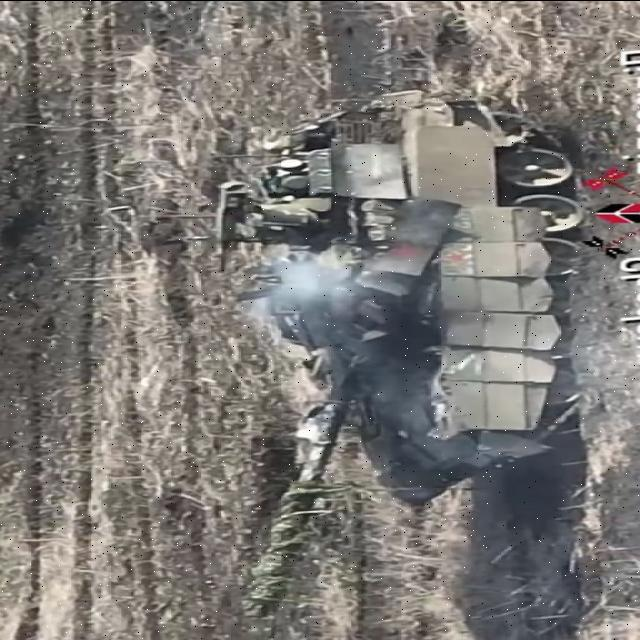TANK: (204, 90, 586, 612)
